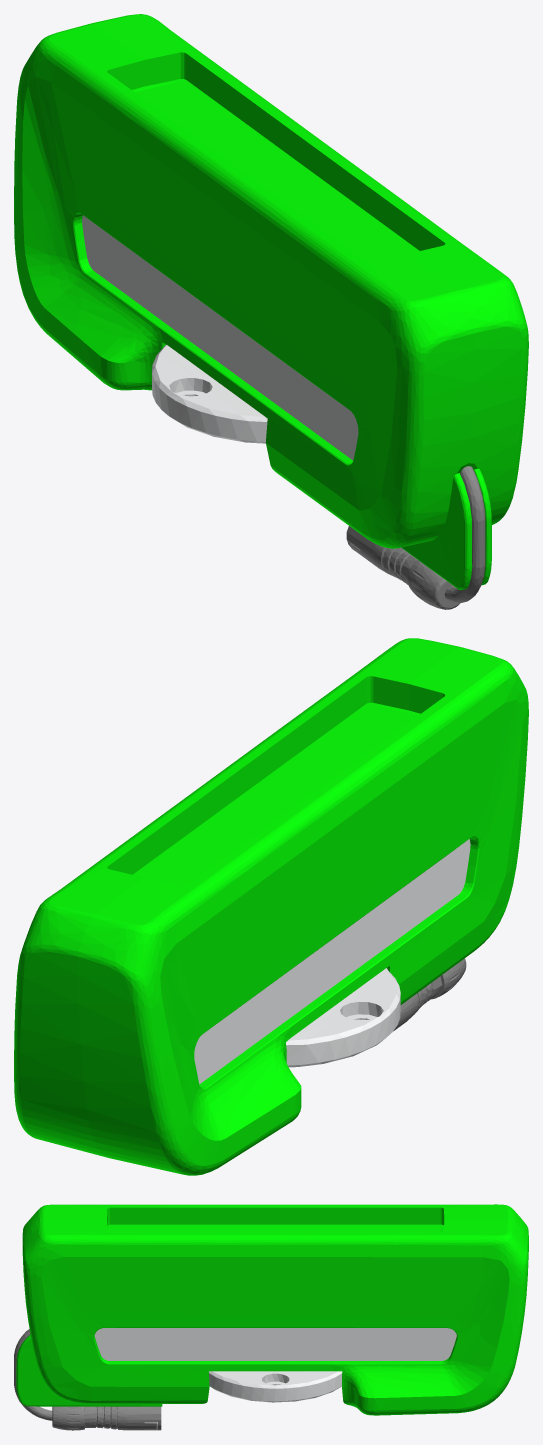
File: hand_vis.dae
3 renders of one model, top to bottom at view 1: azimuth 30°, elevation 25°; view 2: azimuth 150°, elevation 25°; view 3: azimuth 270°, elevation 25°, orthographic. The views are drawn at different scales.
Visible parts, largest first — view 1: node5.001, node5_001.001, node2.001, node0.001, node1.001; view 2: node5.001, node5_001.001, node2.001, node0.001; view 3: node5.001, node5_001.001, node2.001, node0.001, node1.001.
Part boxes in pixels (box(x1,y1,x2,y2)): node5.001: box(14, 14, 528, 590); node5_001.001: box(82, 215, 358, 460); node2.001: box(152, 344, 267, 443); node0.001: box(346, 526, 459, 609); node1.001: box(444, 466, 485, 603); node5.001: box(14, 638, 528, 1175); node5_001.001: box(194, 839, 470, 1084); node2.001: box(286, 968, 400, 1067); node0.001: box(393, 958, 466, 1031); node5.001: box(16, 1204, 528, 1415); node5_001.001: box(94, 1328, 456, 1360); node2.001: box(209, 1371, 342, 1402); node0.001: box(52, 1406, 161, 1430); node1.001: box(14, 1329, 52, 1420).
Bounding box in the file's own units: 0.063 × 0.2045 × 0.0919.
